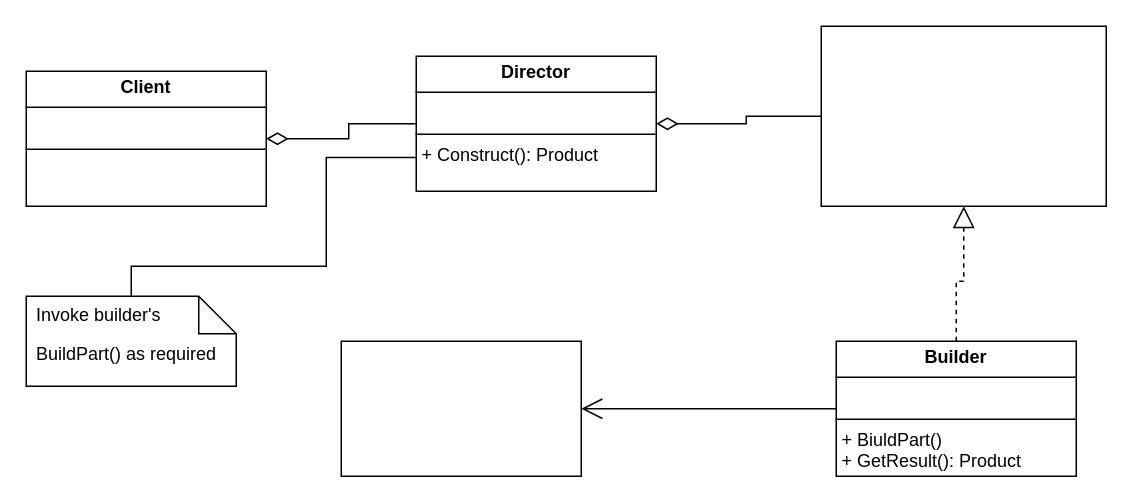
This 1133x503 diagram has some shape labels left out. The shapes that lost their labels are listed below. From the top down, each one's centre as x and y in pixels, then its label:
At (963,115): "<<Interface>> IBuilder + BuildPart() + GetResult(): Product".
At (460,408): "Product - parts".
